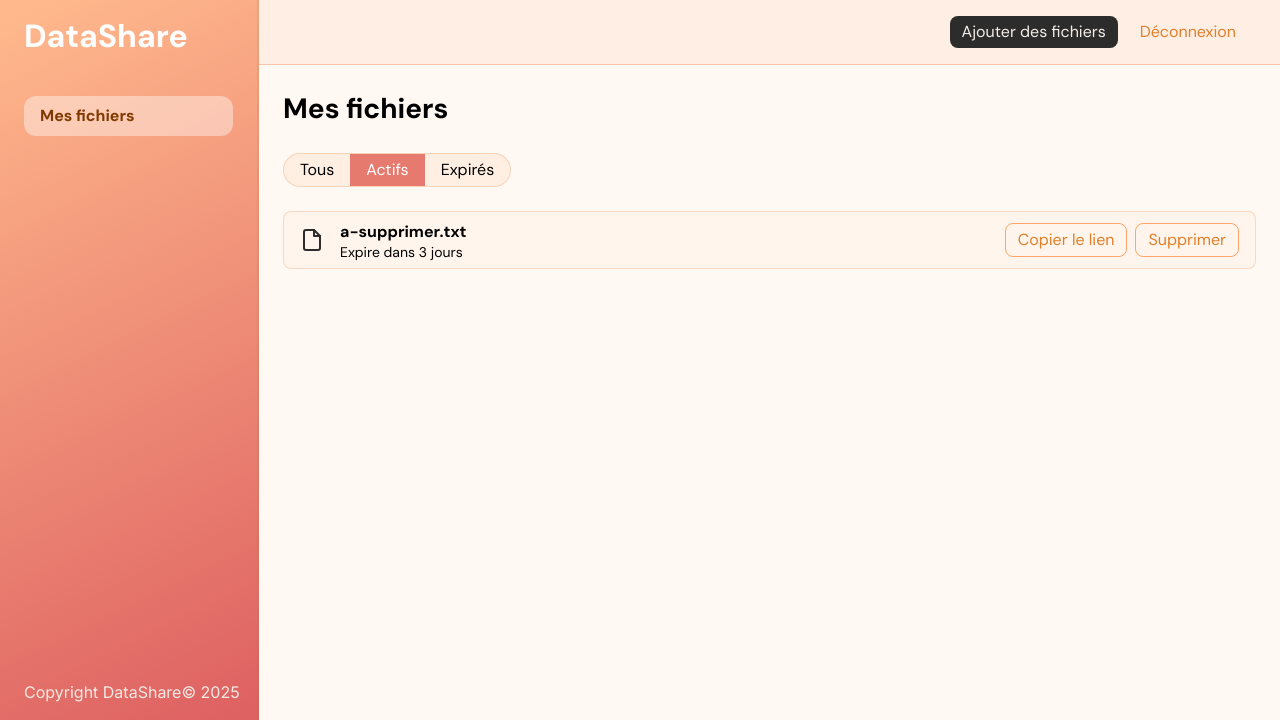
MyFiles › supprimer son unique fichier vide la liste
This screenshot has width=1280, height=720.
Expected: the text "a-supprimer.txt" is shown, 340,221 -> 466,242
Click the button with aria-label "Supprimer a-supprimer.txt" at (1187, 240), box 1136,223 -> 1239,257
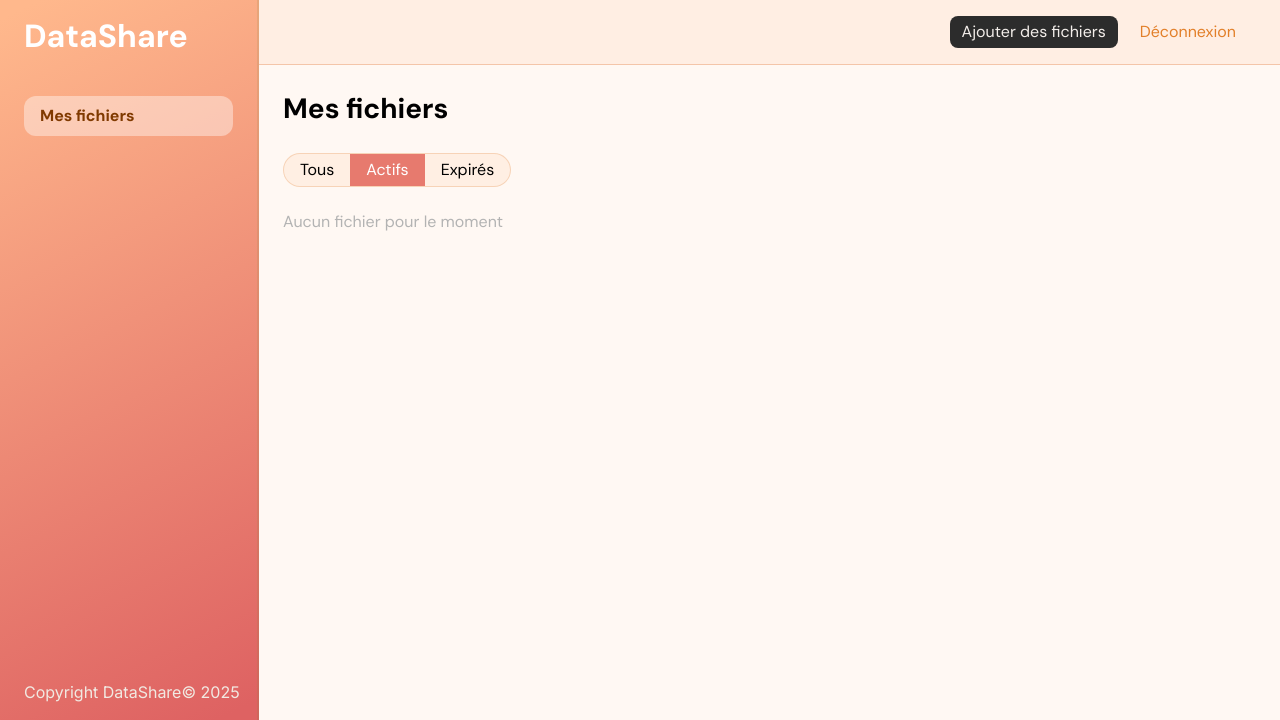
Expected: the text "a-supprimer.txt" is gone
Expected: the text "Aucun fichier pour le moment" is shown, 283,211 -> 503,232
